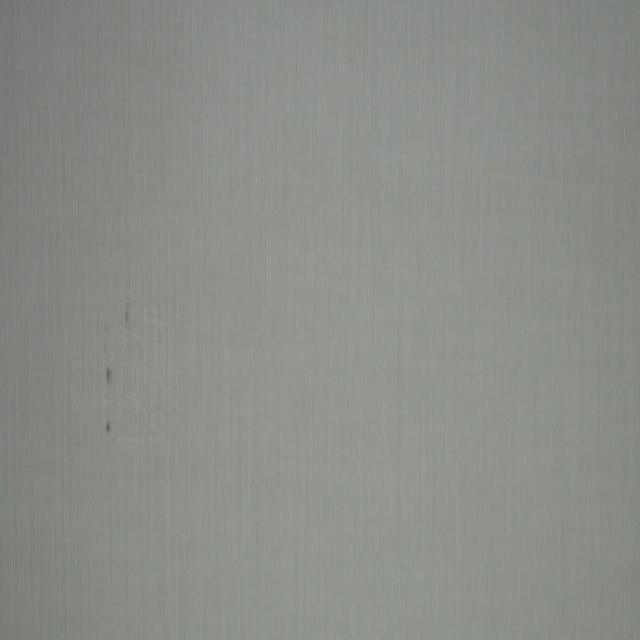dirty: (124, 304, 131, 329), (105, 366, 112, 389), (106, 418, 111, 436)
